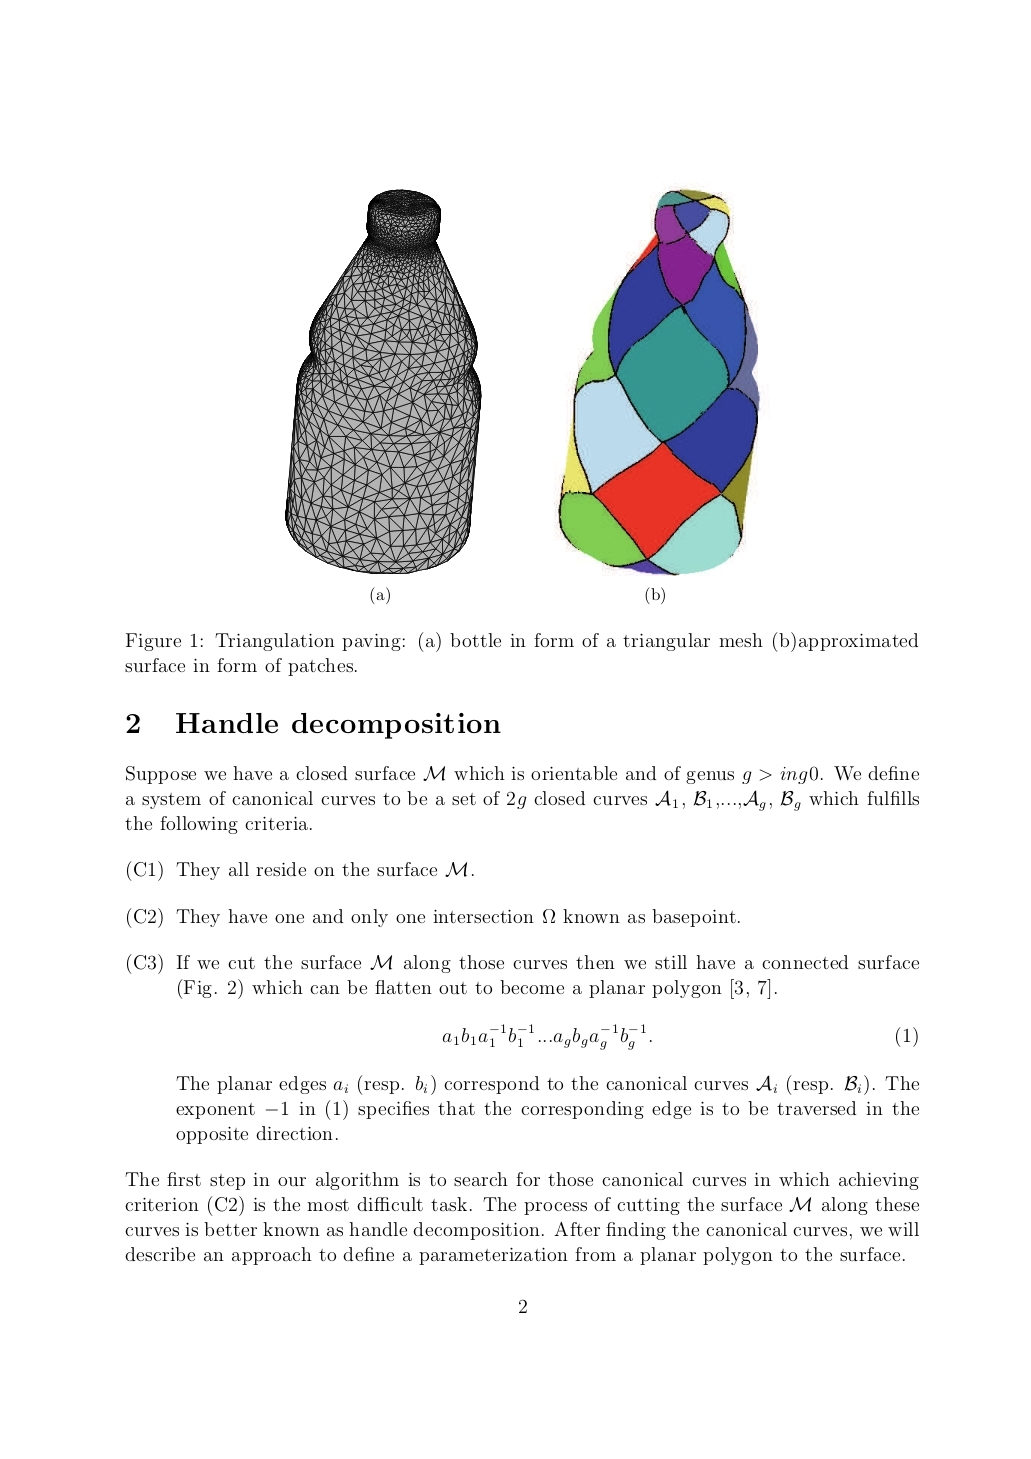figure: (555, 185, 759, 576), (285, 189, 481, 574)
formula: (442, 1023, 917, 1050)
